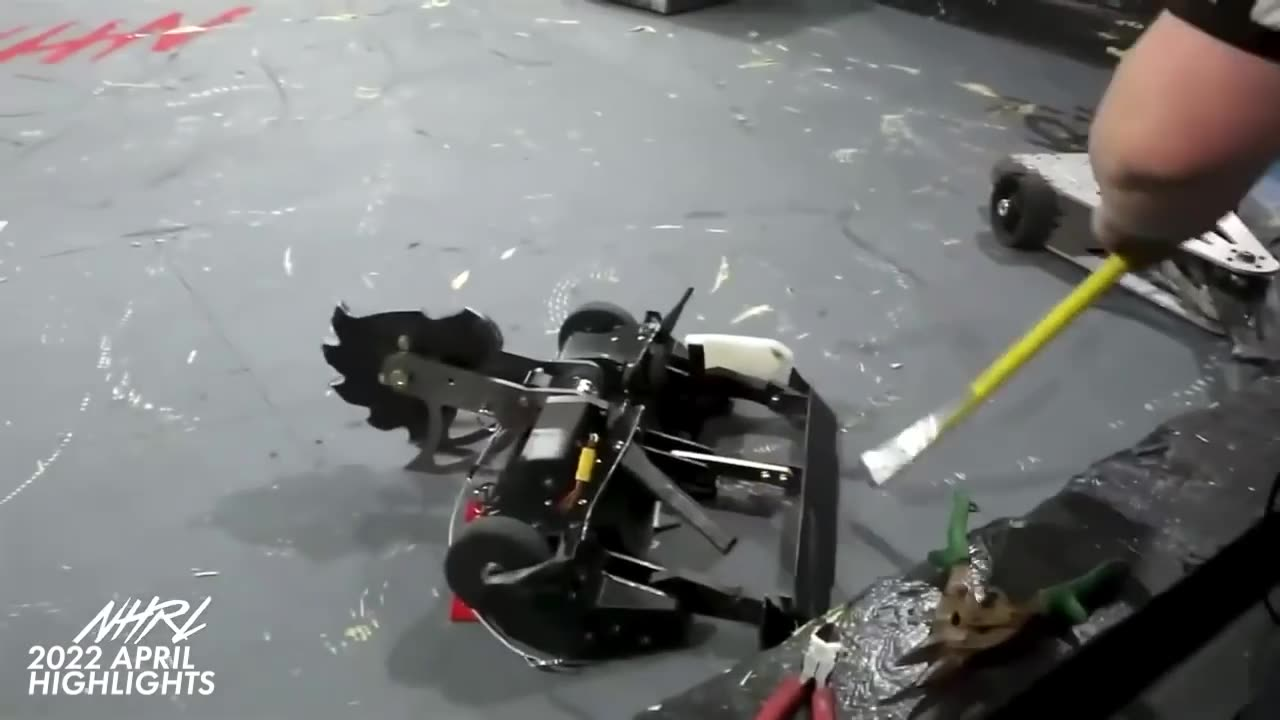combatbot: (319, 285, 835, 662), (985, 151, 1280, 367)
